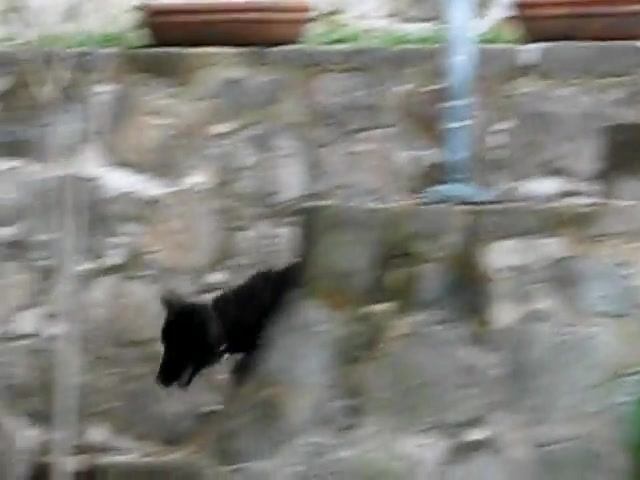dog: (156, 251, 303, 389)
